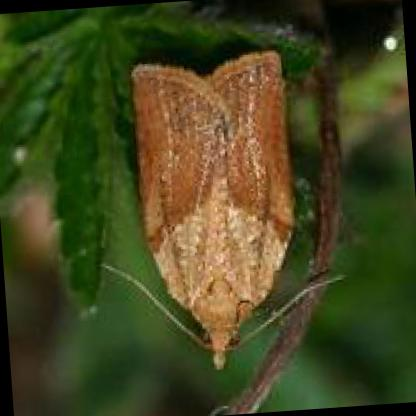plutella: (132, 50, 295, 374)
